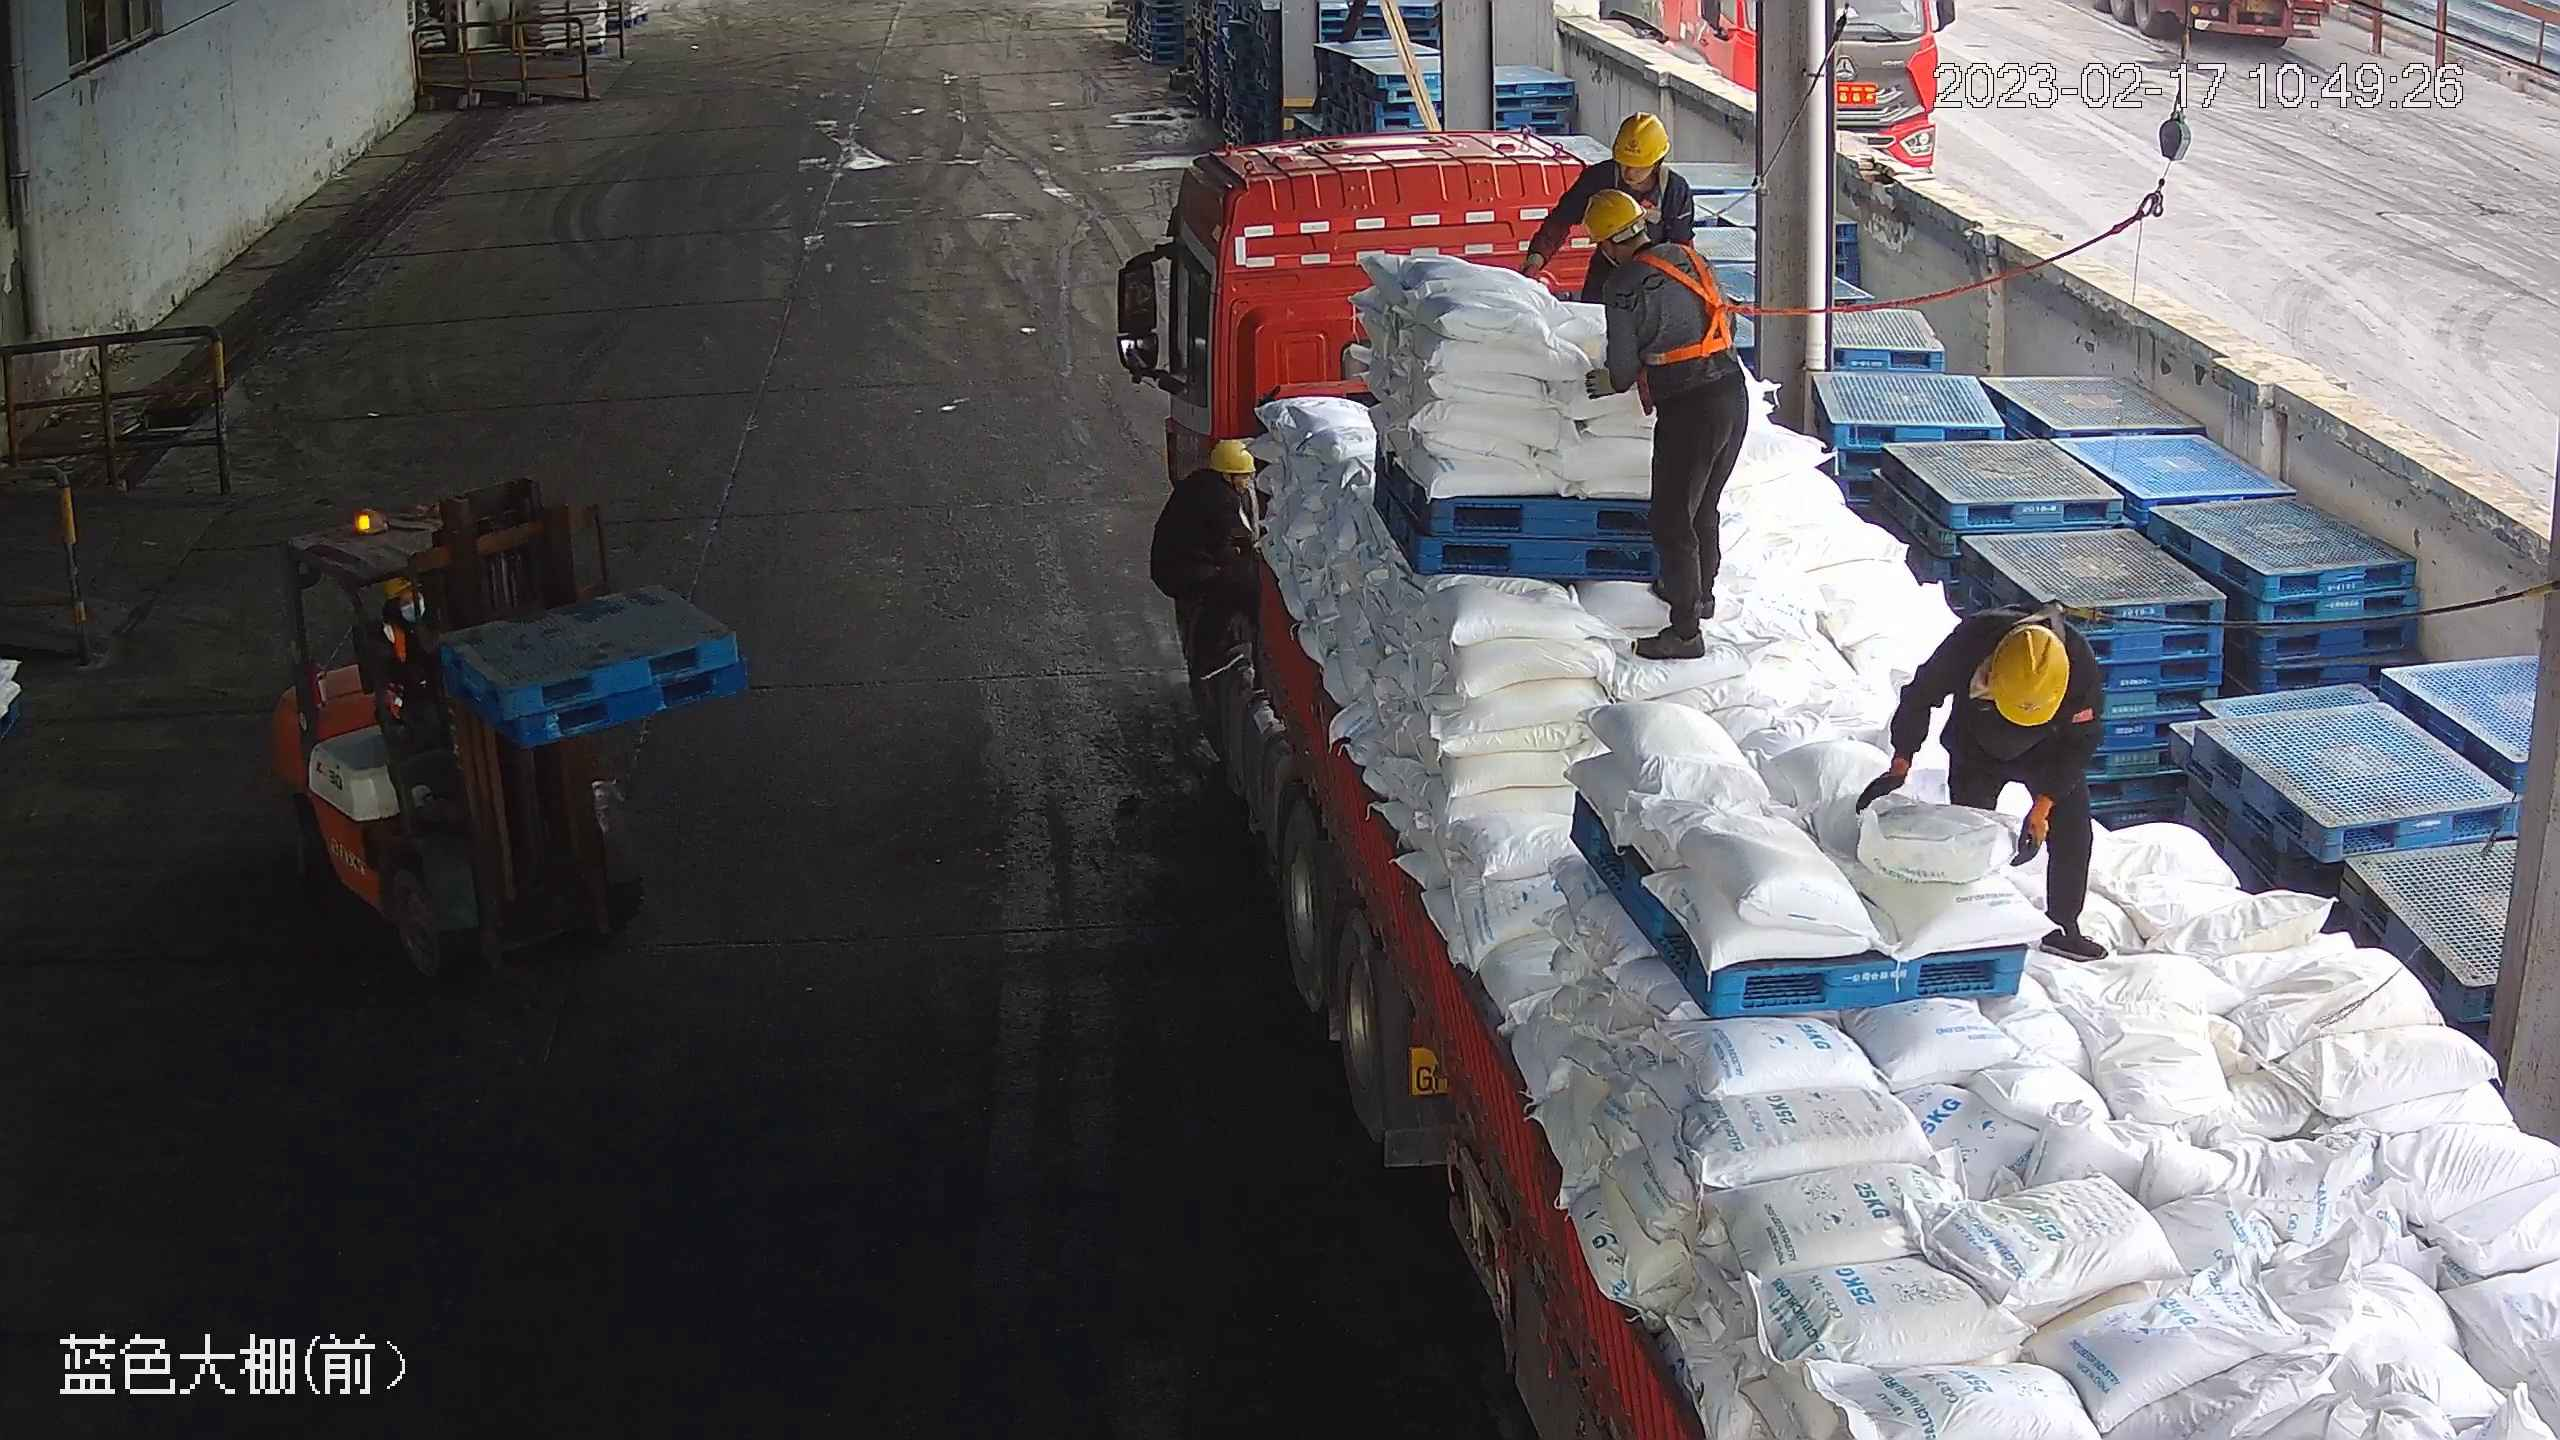belt: (1624, 236, 1757, 368), (1597, 162, 1672, 221)
head: (1949, 615, 2096, 741), (1579, 186, 1730, 308), (1572, 110, 1695, 204), (1160, 436, 1261, 533)
helmet: (1990, 629, 2072, 729), (1576, 187, 1651, 247), (1609, 109, 1668, 166), (1207, 437, 1260, 479)
people: (1860, 607, 2111, 965), (1579, 185, 1752, 664), (1153, 432, 1270, 779)
truck: (1116, 125, 2558, 1440)
